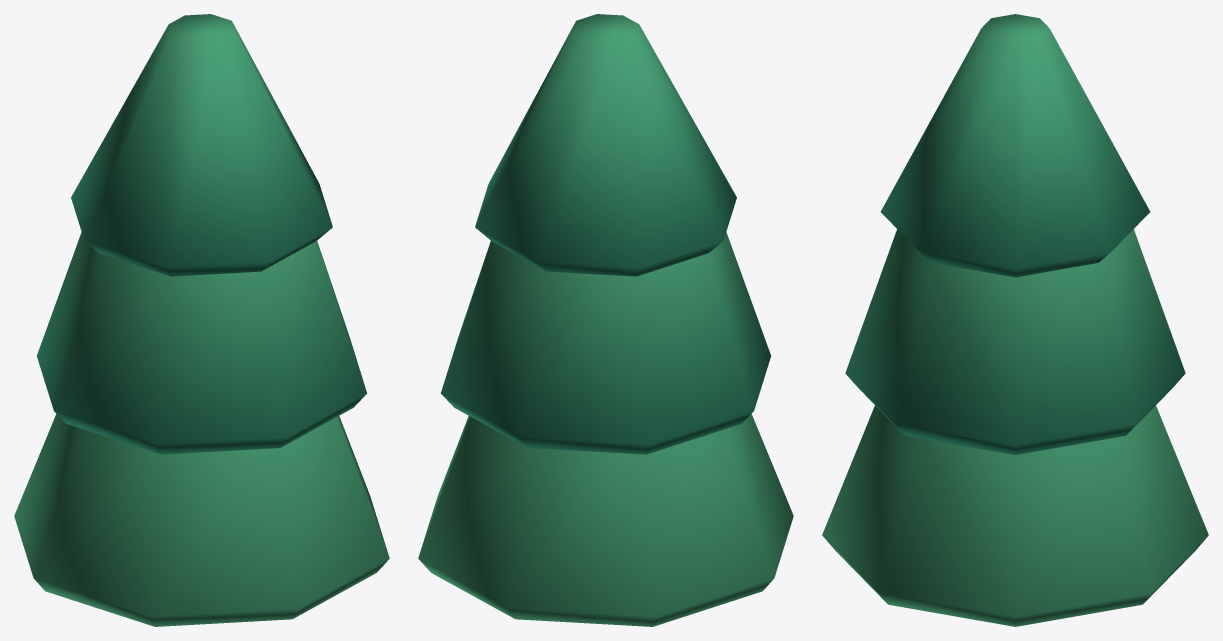
Rendered from tree-pine.glb.
3 renders of one model, left to right at view 1: azimuth 30°, elevation 25°; view 2: azimuth 150°, elevation 25°; view 3: azimuth 270°, elevation 25°, orthographic.
Parts seen in each view (by area): view 1: tree-pine; view 2: tree-pine; view 3: tree-pine.
Part boxes in pixels (x1=…): tree-pine: x1=14, y1=14, x2=389, y2=626; tree-pine: x1=418, y1=14, x2=793, y2=626; tree-pine: x1=822, y1=14, x2=1208, y2=626.
Size of the model in its own units: 0.5575 by 0.8307 by 0.5575.
